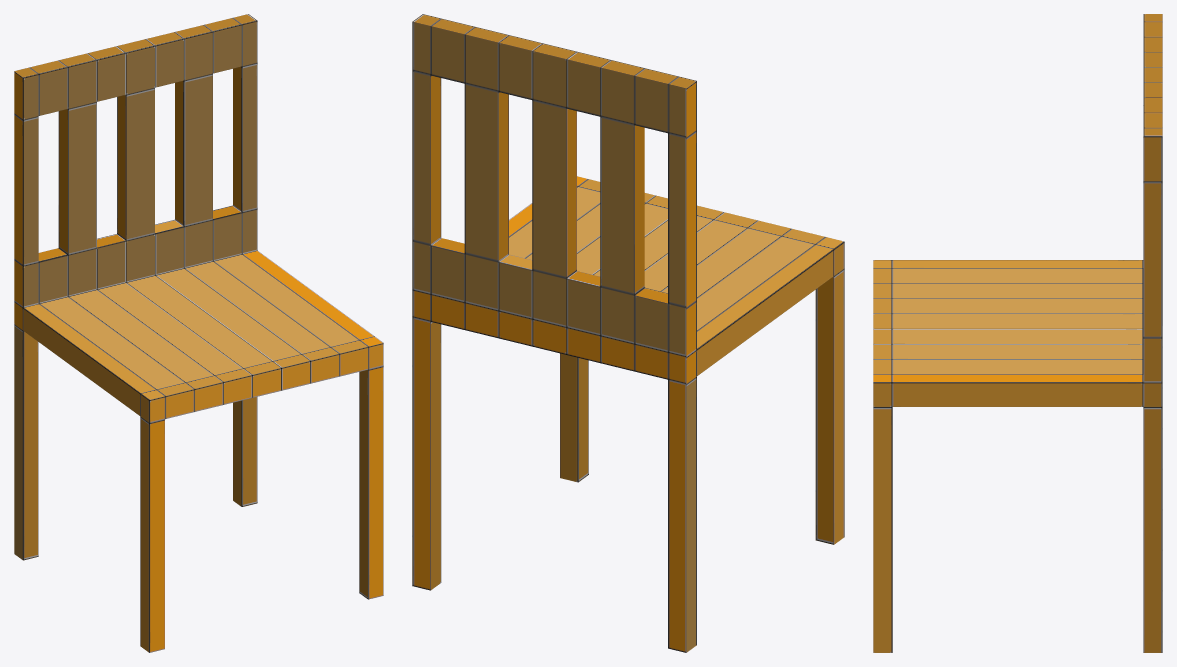
The model's file is chair.obj.
3 views of the same model, side by side, from view 1: azimuth 30°, elevation 25°; view 2: azimuth 150°, elevation 25°; view 3: azimuth 270°, elevation 25° (orthographic). The views are drawn at different scales.
Visible parts, largest first — view 1: Plane; view 2: Plane; view 3: Plane.
Boxes of the visible parts, x1,y1,x2,y2 form: Plane: (14, 14, 383, 652); Plane: (412, 14, 844, 652); Plane: (873, 14, 1162, 652).
Bounding box in the file's own units: 1.6 × 3.15 × 1.6.
Materials: 1 (1 with a texture image).
